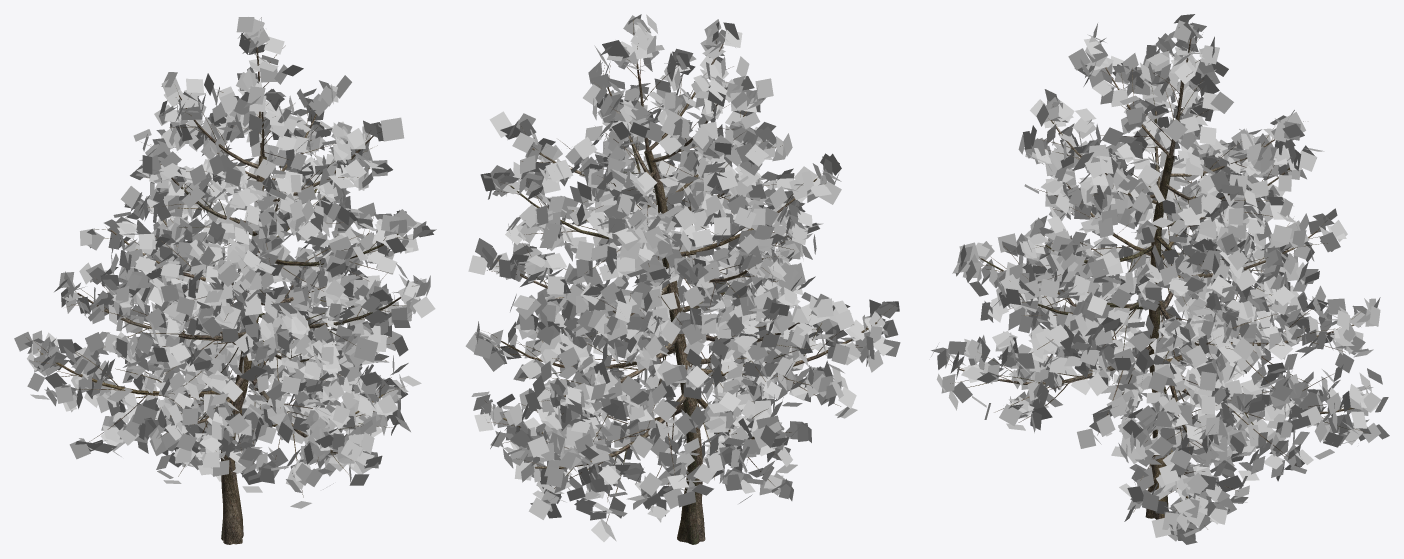
The model's file is SM_Tree_Wetland_02.FBX.
3 views of the same model, side by side, from view 1: azimuth 30°, elevation 25°; view 2: azimuth 150°, elevation 25°; view 3: azimuth 270°, elevation 25° (orthographic). The views are drawn at different scales.
Parts seen in each view (by area): view 1: SM_Tree_Wetland_2_LOD0; view 2: SM_Tree_Wetland_2_LOD0; view 3: SM_Tree_Wetland_2_LOD0.
Part boxes in pixels (bbox=[...]): SM_Tree_Wetland_2_LOD0: bbox=[14, 17, 436, 544]; SM_Tree_Wetland_2_LOD0: bbox=[465, 14, 900, 544]; SM_Tree_Wetland_2_LOD0: bbox=[931, 14, 1389, 544].
Size of what is drawn, in the model's own units: 430 by 470 by 582.
